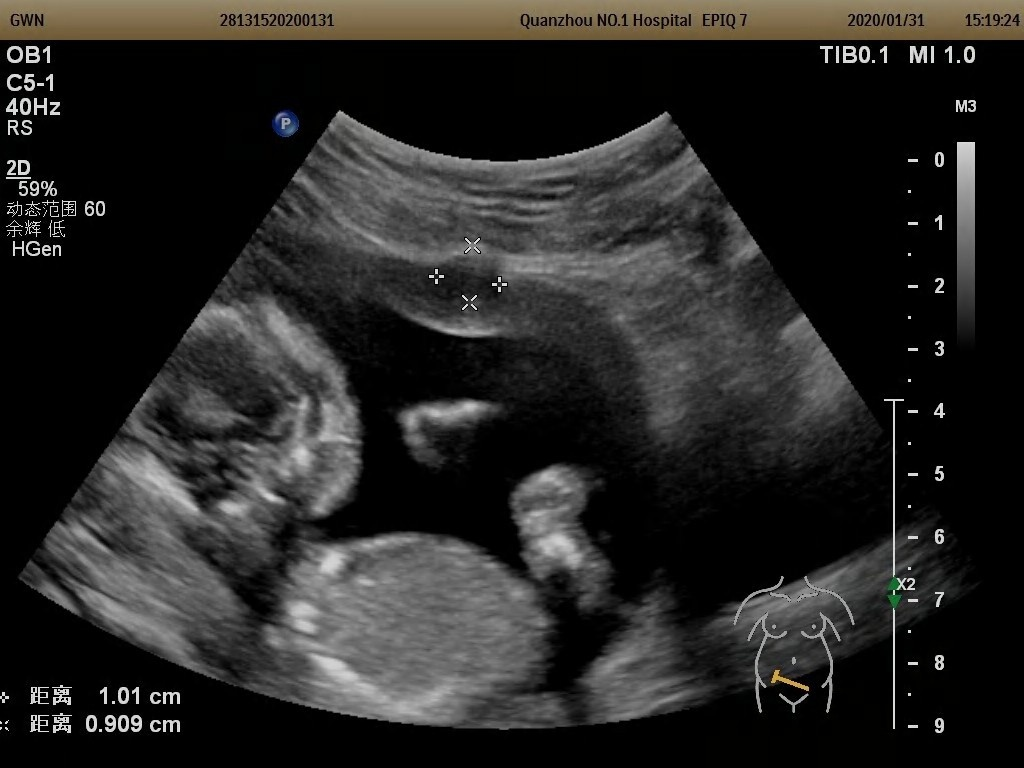肌瘤: (437, 247, 499, 304)
